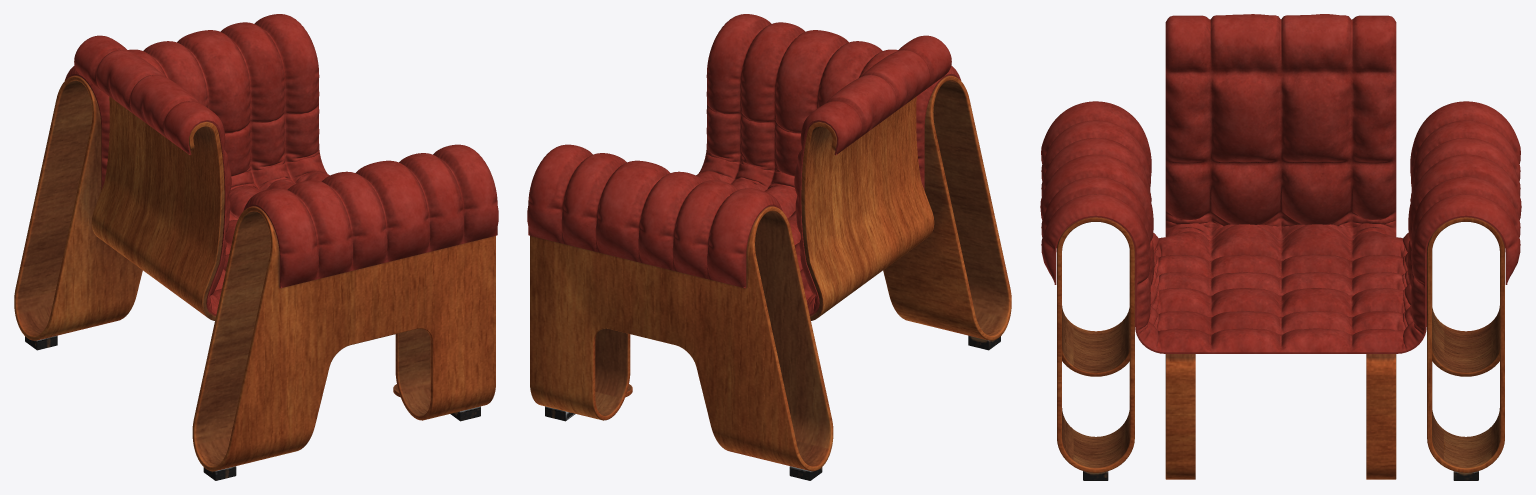
The model's file is wooden_sofa.glb.
3 renders of one model, left to right at view 1: azimuth 30°, elevation 25°; view 2: azimuth 150°, elevation 25°; view 3: azimuth 270°, elevation 25°, orthographic. The views are drawn at different scales.
Parts seen in each view (by area): view 1: Cube, Cube.004, Cube.003, Cube.002, Cube.001; view 2: Cube, Cube.004, Cube.003, Cube.002, Cube.001; view 3: Cube.004, Cube, Cube.003, Cube.002.
Boxes of the visible parts, <box> form: Cube: <box>14,75,495,471</box>; Cube.004: <box>64,14,498,314</box>; Cube.003: <box>91,96,400,397</box>; Cube.002: <box>66,73,497,315</box>; Cube.001: <box>25,335,480,480</box>; Cube: <box>530,75,1011,471</box>; Cube.004: <box>527,14,961,314</box>; Cube.003: <box>625,96,934,397</box>; Cube.002: <box>528,73,959,315</box>; Cube.001: <box>545,335,1000,480</box>; Cube.004: <box>1040,14,1521,352</box>; Cube: <box>1057,217,1504,472</box>; Cube.003: <box>1165,354,1396,479</box>; Cube.002: <box>1054,215,1507,353</box>.
Size of the model in its own units: 0.8822 by 1.02 by 1.28.
Materials: 2 (2 with a texture image).
